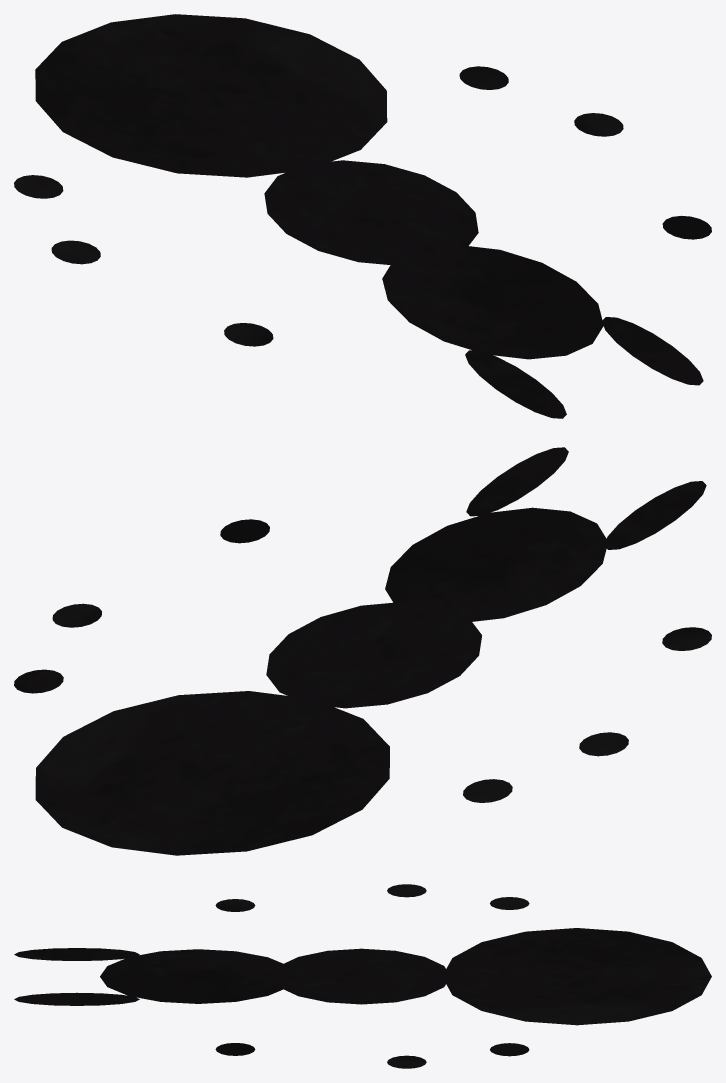
The model's file is ant_shadow_GEO_01.fbx.
3 views of the same model, one above another, from view 1: azimuth 30°, elevation 25°; view 2: azimuth 150°, elevation 25°; view 3: azimuth 270°, elevation 25° (orthographic). The views are drawn at different scales.
Parts seen in each view (by area): view 1: Ant_Shadow_GEO_01; view 2: Ant_Shadow_GEO_01; view 3: Ant_Shadow_GEO_01.
Boxes of the visible parts, box(x1,y1,x2,y2) form: Ant_Shadow_GEO_01: box(14, 14, 711, 418); Ant_Shadow_GEO_01: box(14, 447, 711, 855); Ant_Shadow_GEO_01: box(14, 884, 711, 1068).
Bounding box in the file's own units: 10.11 × 0 × 16.15.
Materials: 1 (1 with a texture image).
